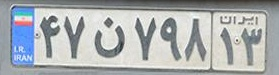character: (90, 10, 129, 64), (128, 11, 159, 65), (183, 12, 211, 68), (62, 9, 90, 62), (37, 9, 62, 62), (159, 11, 183, 66), (237, 25, 264, 68), (215, 25, 237, 67)
